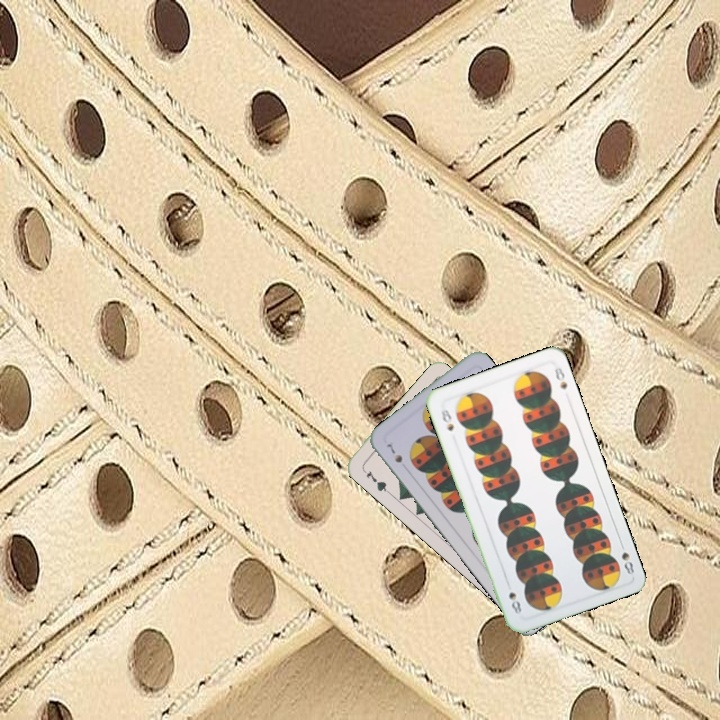G7: (359, 465, 392, 496)
S7: (383, 439, 405, 466)
S8: (616, 538, 637, 577), (437, 405, 456, 434)
